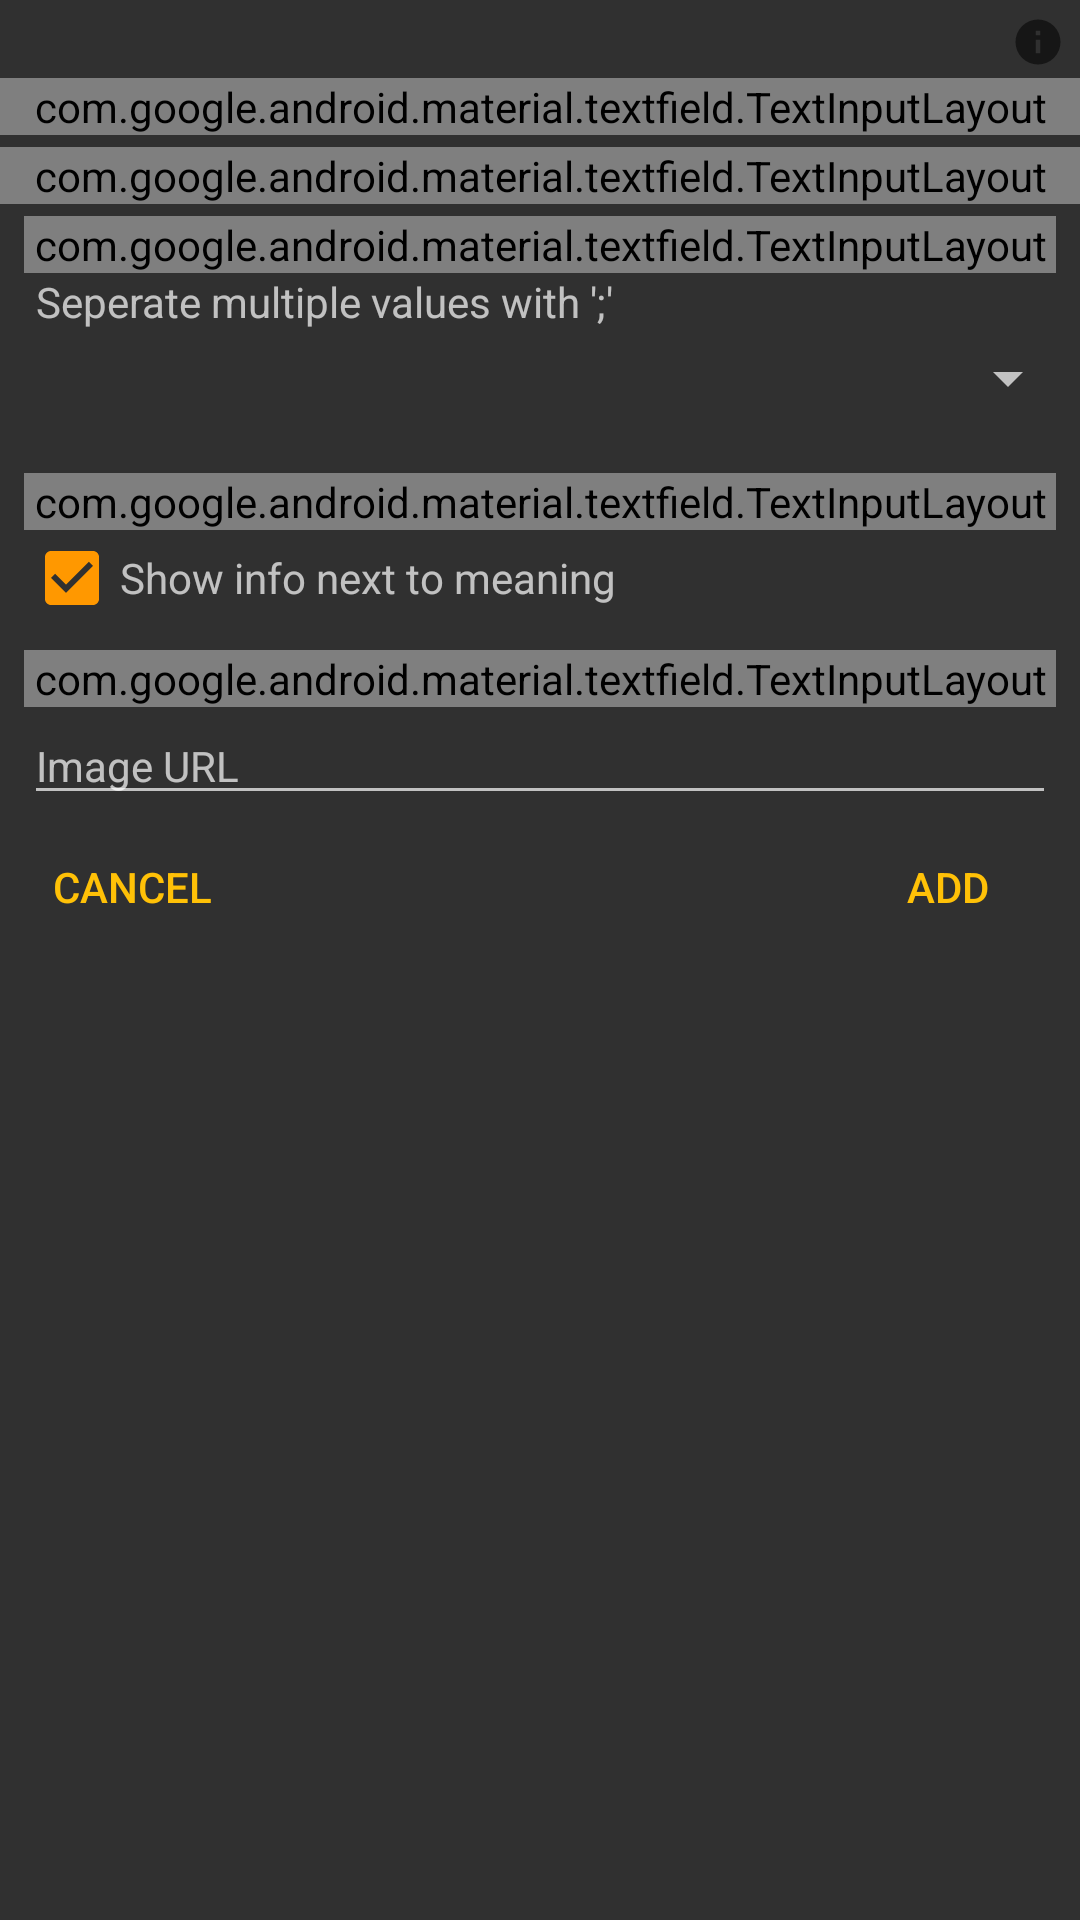

Icon bounding boxes for this 1080*1920 phone screenshot, format (x1, y1, x2, y2):
info: (1016, 20, 1060, 64)
